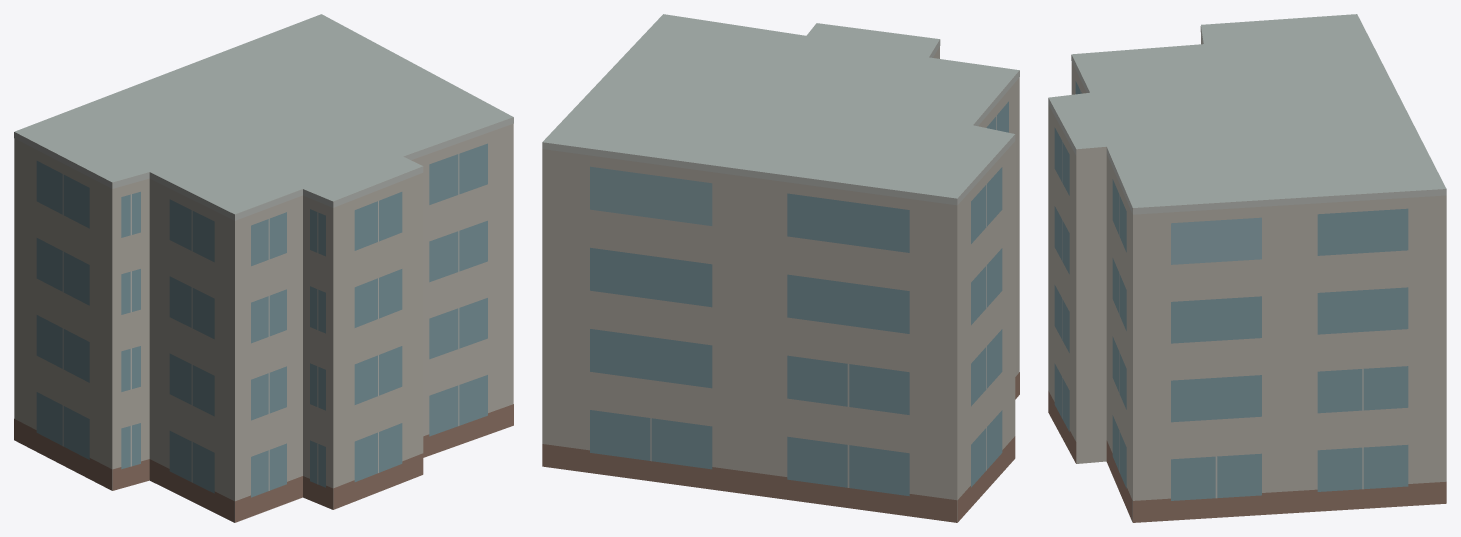
Rendered from survey-upis-32543315.glb.
3 renders of one model, left to right at view 1: azimuth 30°, elevation 25°; view 2: azimuth 150°, elevation 25°; view 3: azimuth 270°, elevation 25°, orthographic. The views are drawn at different scales.
Parts seen in each view (by area): view 1: survey-upis-32543315.tmp; view 2: survey-upis-32543315.tmp; view 3: survey-upis-32543315.tmp.
Boxes of the visible parts, left/top/right/bottom form: survey-upis-32543315.tmp: left=14, top=14, right=513, bottom=522; survey-upis-32543315.tmp: left=542, top=14, right=1019, bottom=522; survey-upis-32543315.tmp: left=1048, top=14, right=1446, bottom=522.
Size of the model in its own units: 15.48 by 11.7 by 13.42.
